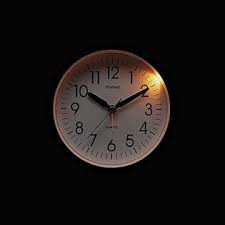alarm_clock: (51, 48, 171, 167), (61, 48, 171, 167)
